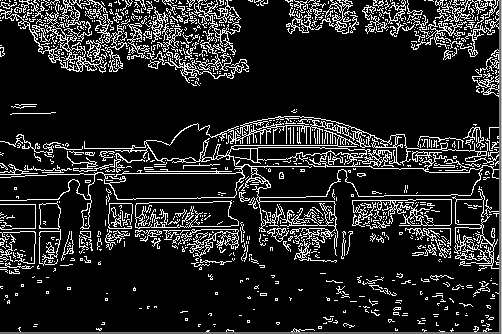opera house: (118, 117, 242, 176)
